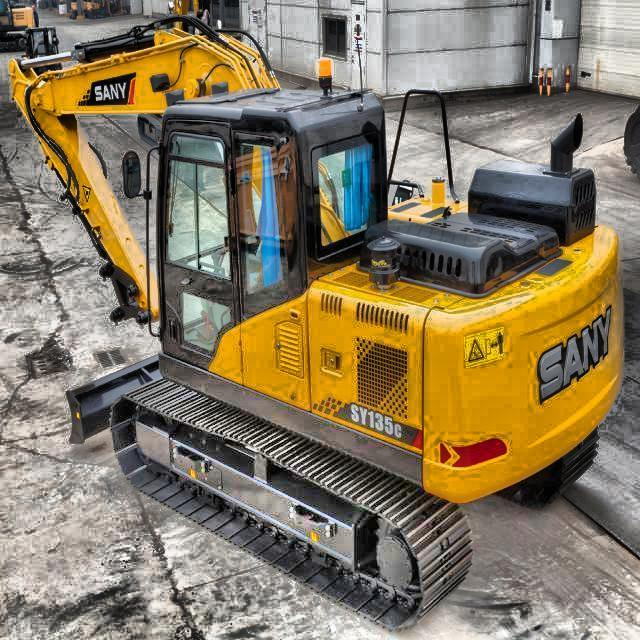excavator: (8, 13, 626, 638)
